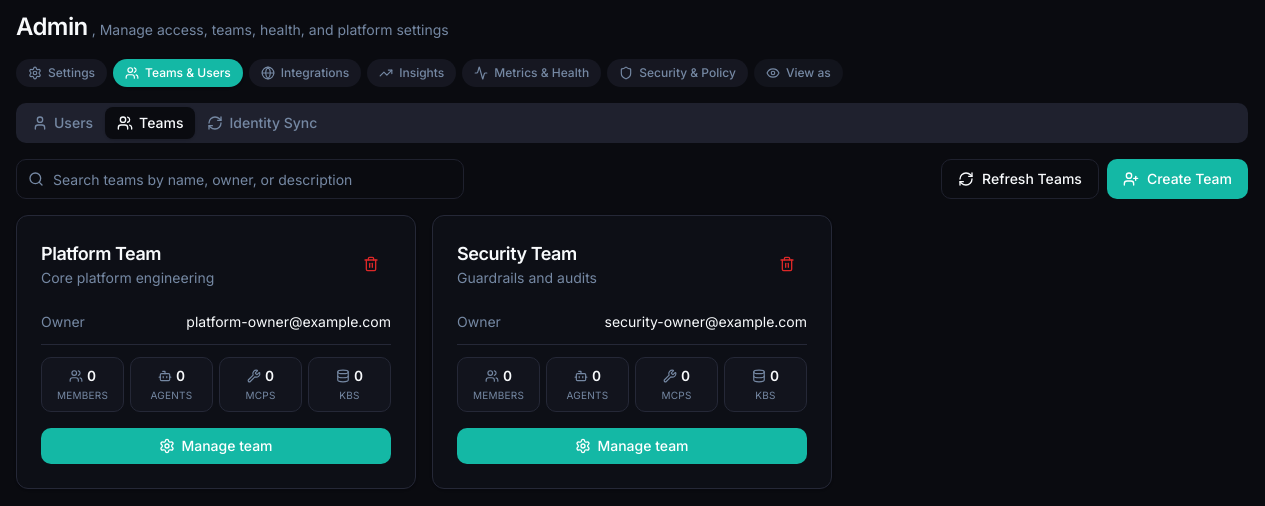
Test case: Admin Dashboard Page › Admin mode › filters teams by search text and shows an empty result state
Expected: the text "Platform Team" is shown, [41,240,161,268]
Expected: the text "Security Team" is shown, [457,240,577,268]
Type "security" into the search field labelled "Search teams by name, owner, or description" at point(240, 179), box [16,159,464,199]
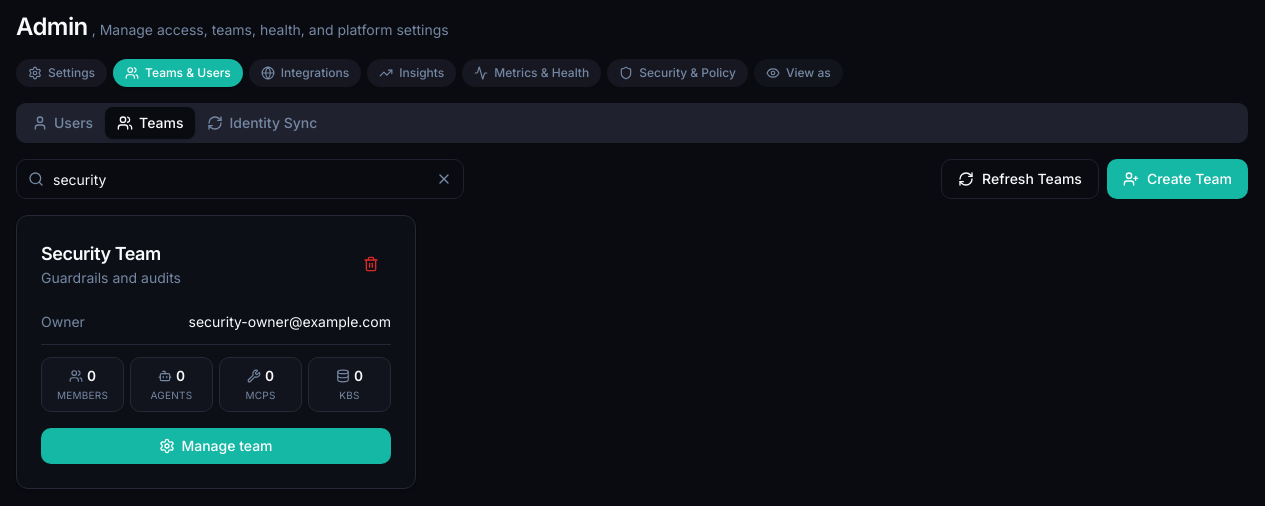
Expected: the text "Security Team" is shown, [41,240,161,268]
Now the text "Platform Team" is gone
Replace the text in the search field named "Search teams" with "does-not-exist" at point(240, 179), box [16,159,464,199]
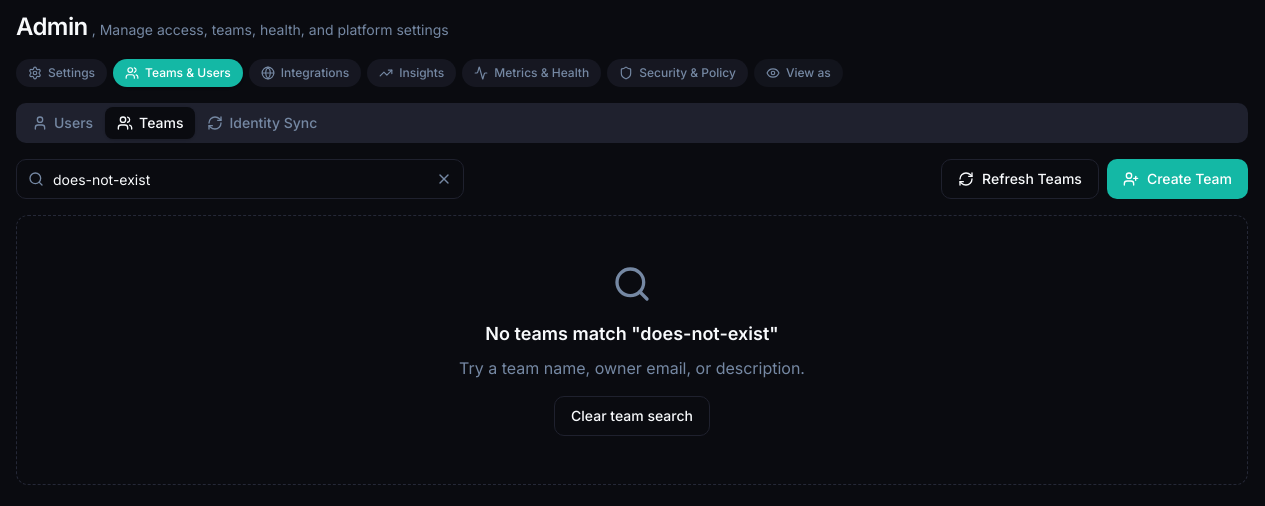
Now the heading "No teams match \"does-not-exist\"" is shown, box [485,323,779,344]
Now the button "Clear team search" is shown, box [554,396,710,436]
